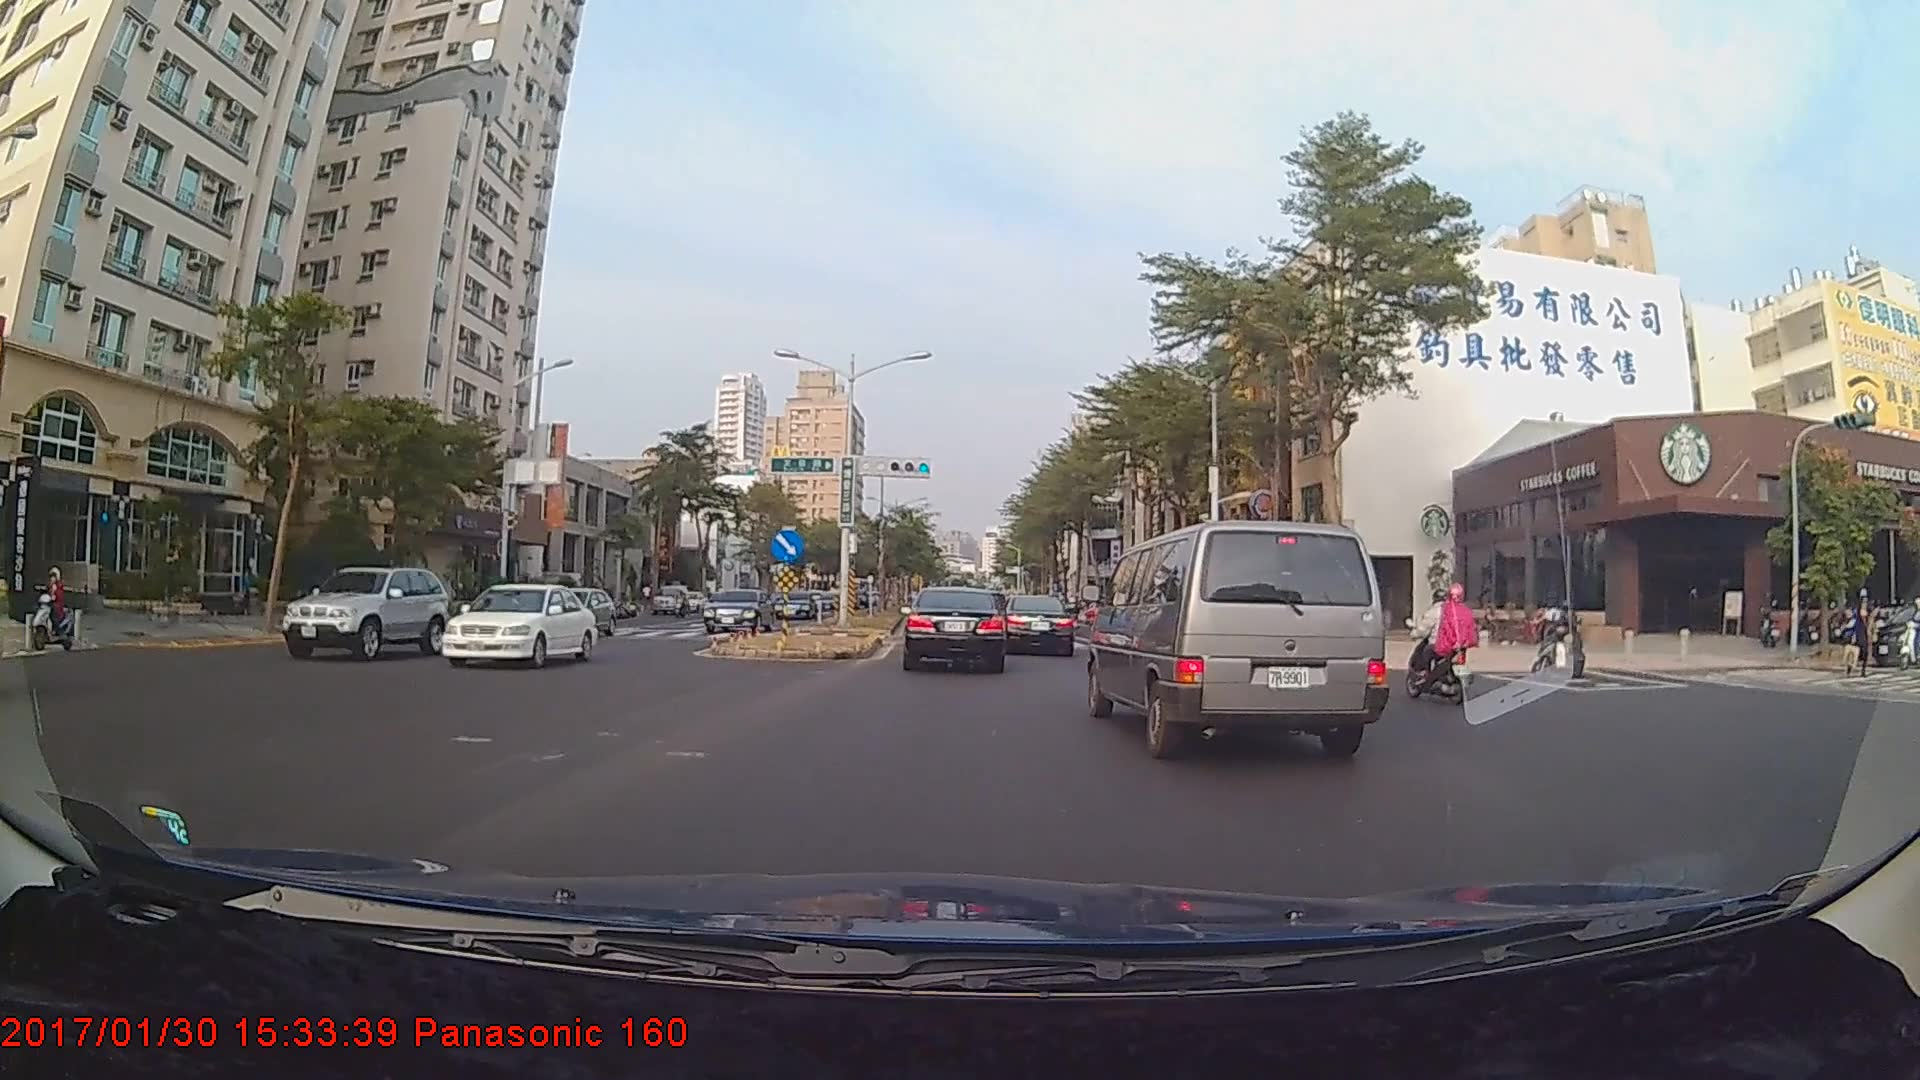pedestrian: (1849, 593, 1873, 677)
rider: (1405, 569, 1485, 691), (20, 569, 91, 659), (1536, 588, 1598, 679)
vehicle: (1095, 516, 1380, 759), (283, 564, 452, 662), (439, 581, 599, 667), (902, 587, 1008, 672), (1001, 593, 1076, 657), (527, 587, 613, 639), (698, 583, 772, 632)
